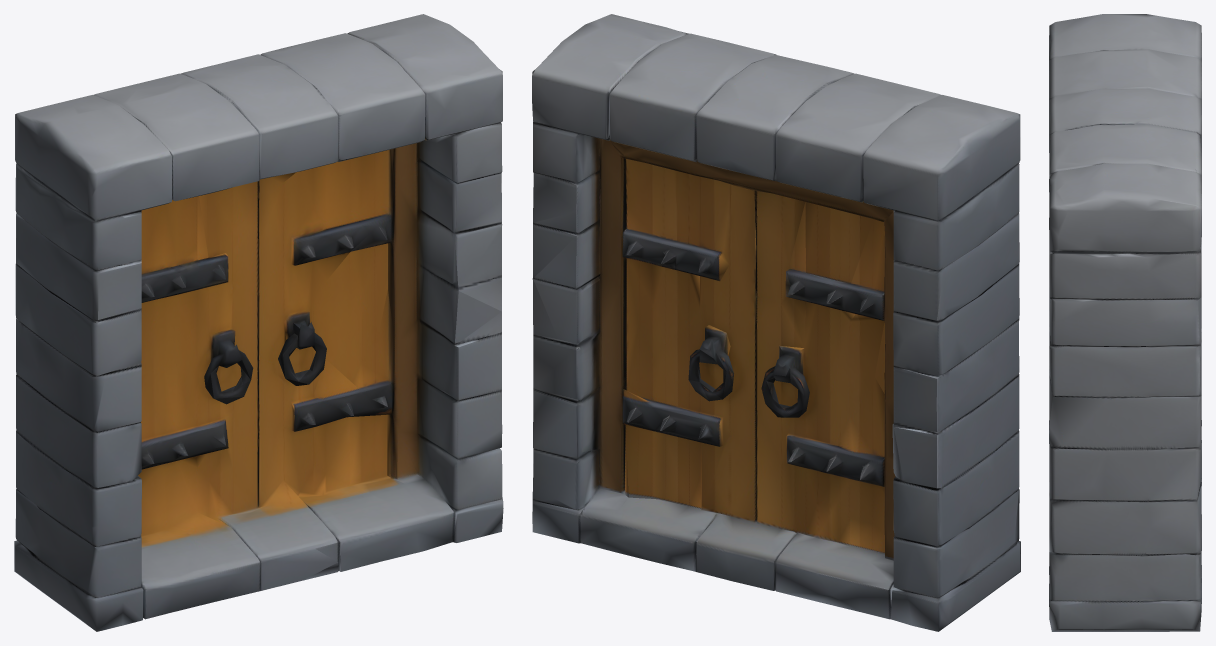
Rendered from entrance-rectangular.glb.
3 renders of one model, left to right at view 1: azimuth 30°, elevation 25°; view 2: azimuth 150°, elevation 25°; view 3: azimuth 270°, elevation 25°, orthographic. The views are drawn at different scales.
Visible parts, largest first — view 1: Stone surround and oak lining; view 2: Stone surround and oak lining; view 3: Stone surround and oak lining.
Boxes of the visible parts, box(x1,y1,x2,y2) form: Stone surround and oak lining: box(14, 14, 503, 631); Stone surround and oak lining: box(532, 14, 1020, 631); Stone surround and oak lining: box(1049, 14, 1201, 631).
Bounding box in the file's own units: 2.82 × 3.04 × 0.9681.
1 material, 1 textured.
